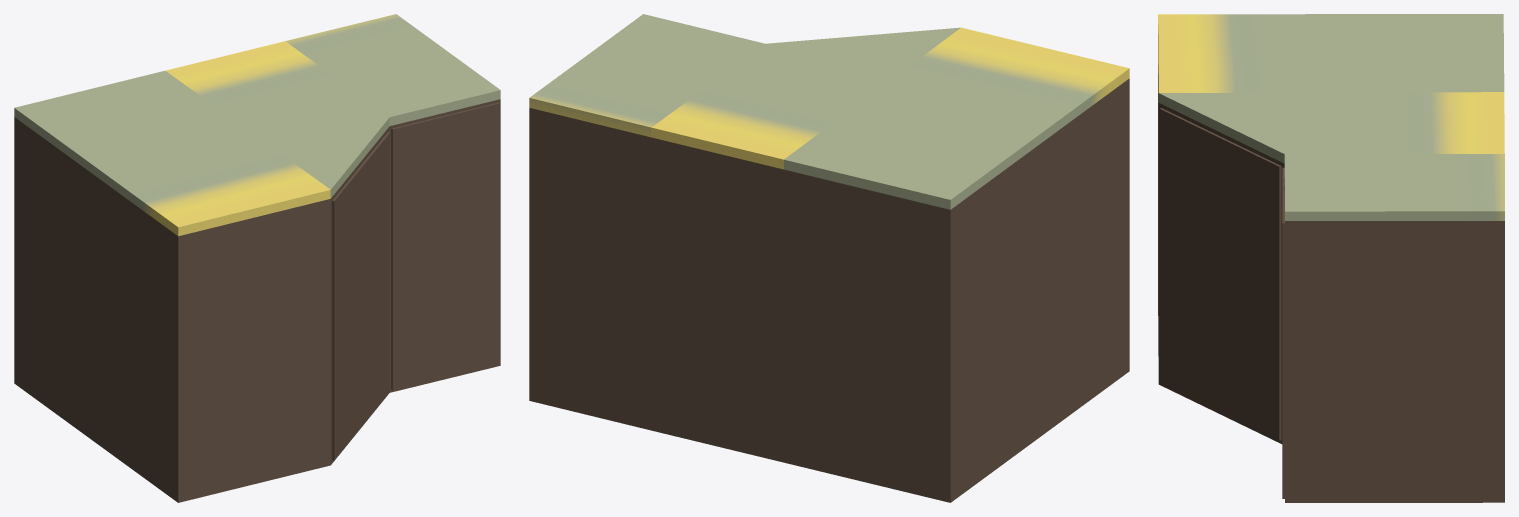
Rendered from Kitchen_2_Cabinet_2.fbx.
3 renders of one model, left to right at view 1: azimuth 30°, elevation 25°; view 2: azimuth 150°, elevation 25°; view 3: azimuth 270°, elevation 25°, orthographic. The views are drawn at different scales.
Visible parts, largest first — view 1: Kitchen_2_Cabinet_2; view 2: Kitchen_2_Cabinet_2; view 3: Kitchen_2_Cabinet_2.
Part boxes in pixels (left/top/right/bottom): Kitchen_2_Cabinet_2: left=14, top=14, right=500, bottom=502; Kitchen_2_Cabinet_2: left=529, top=14, right=1129, bottom=502; Kitchen_2_Cabinet_2: left=1158, top=14, right=1504, bottom=502.
Bounding box in the file's own units: 188 × 129 × 139.
